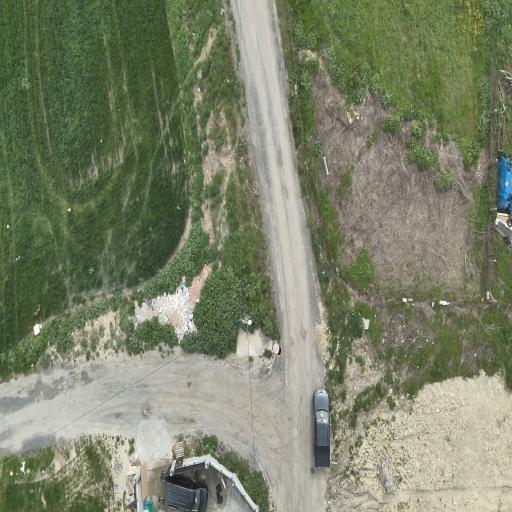car: (161, 473, 207, 511), (313, 389, 330, 468)
